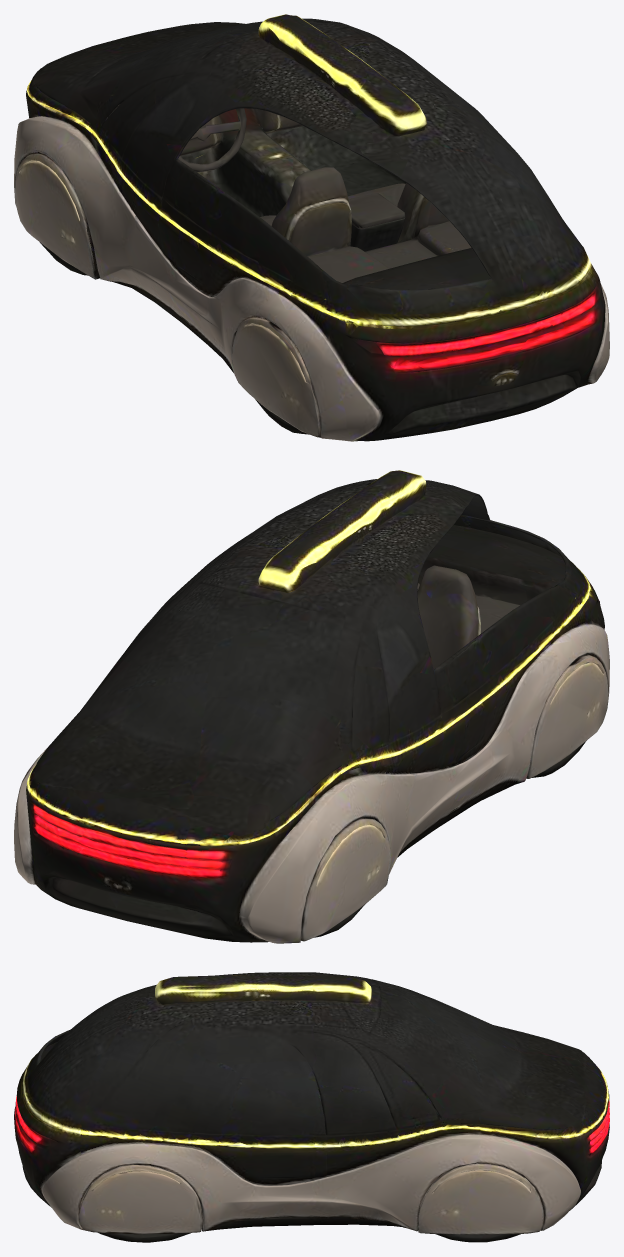
Rendered from cab.glb.
3 renders of one model, top to bottom at view 1: azimuth 30°, elevation 25°; view 2: azimuth 150°, elevation 25°; view 3: azimuth 270°, elevation 25°, orthographic. The views are drawn at different scales.
Visible parts, largest first — view 1: SM_cab; view 2: SM_cab; view 3: SM_cab.
Part boxes in pixels (box(x1,y1,x2,y2)): SM_cab: box(14, 14, 609, 441); SM_cab: box(14, 470, 609, 943); SM_cab: box(14, 972, 609, 1242).
Bounding box in the file's own units: 0.4484 × 0.3914 × 0.98.
Materials: 1 (1 with a texture image).
